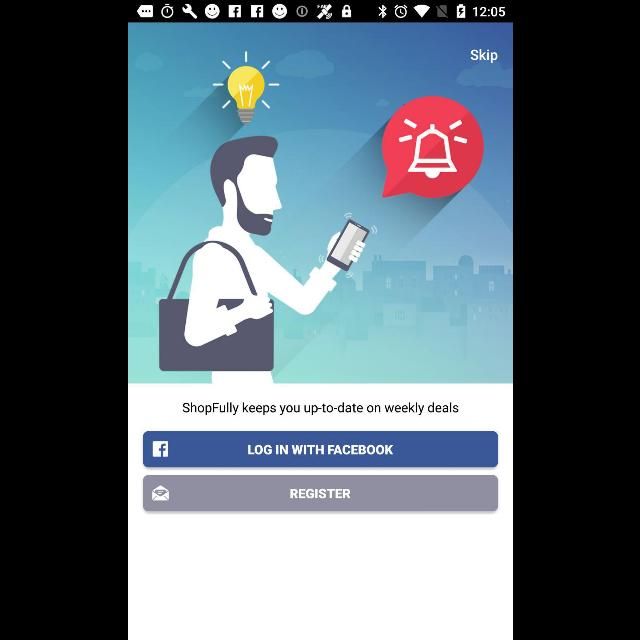image: (128, 23, 512, 383)
text: (182, 402, 458, 416), (469, 49, 496, 63)
textbutton: (142, 475, 498, 511), (142, 431, 498, 467)
uppertaskbar: (128, 1, 512, 23)
